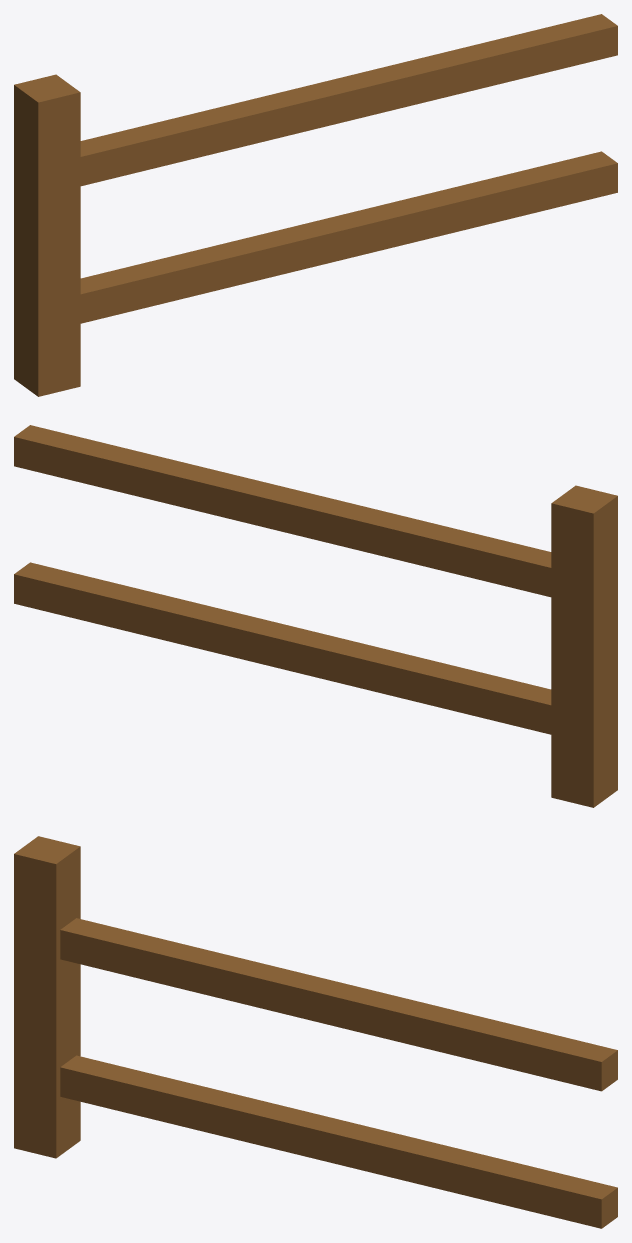
Rendered from VallaA.fbx.
3 views of the same model, one above another, from view 1: azimuth 30°, elevation 25°; view 2: azimuth 150°, elevation 25°; view 3: azimuth 330°, elevation 25° (orthographic).
Visible parts, largest first — view 1: VallaA; view 2: VallaA; view 3: VallaA.
Part boxes in pixels (x1=…): VallaA: x1=14, y1=14, x2=617, y2=396; VallaA: x1=14, y1=425, x2=617, y2=807; VallaA: x1=14, y1=836, x2=617, y2=1228.
Size of the model in its own units: 156 by 75 by 11.25.
